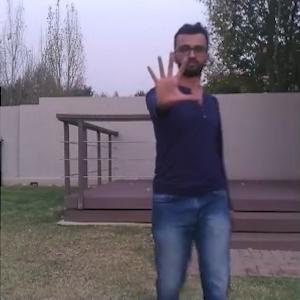follow_hand: (143, 48, 204, 105)
